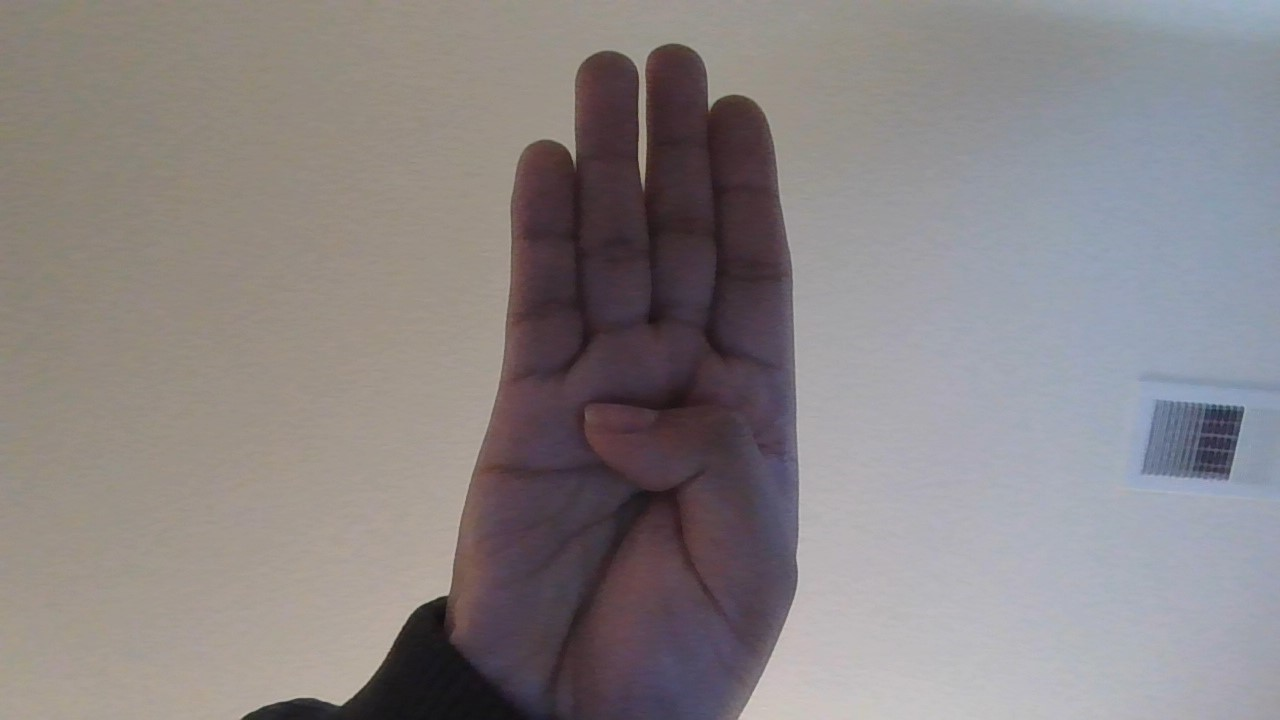b: (433, 35, 815, 718)
